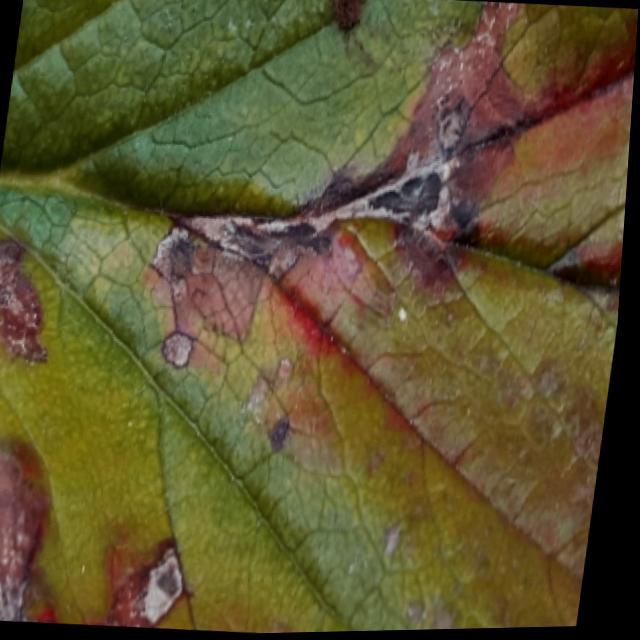Angular Leafspot: (0, 0, 639, 635)
